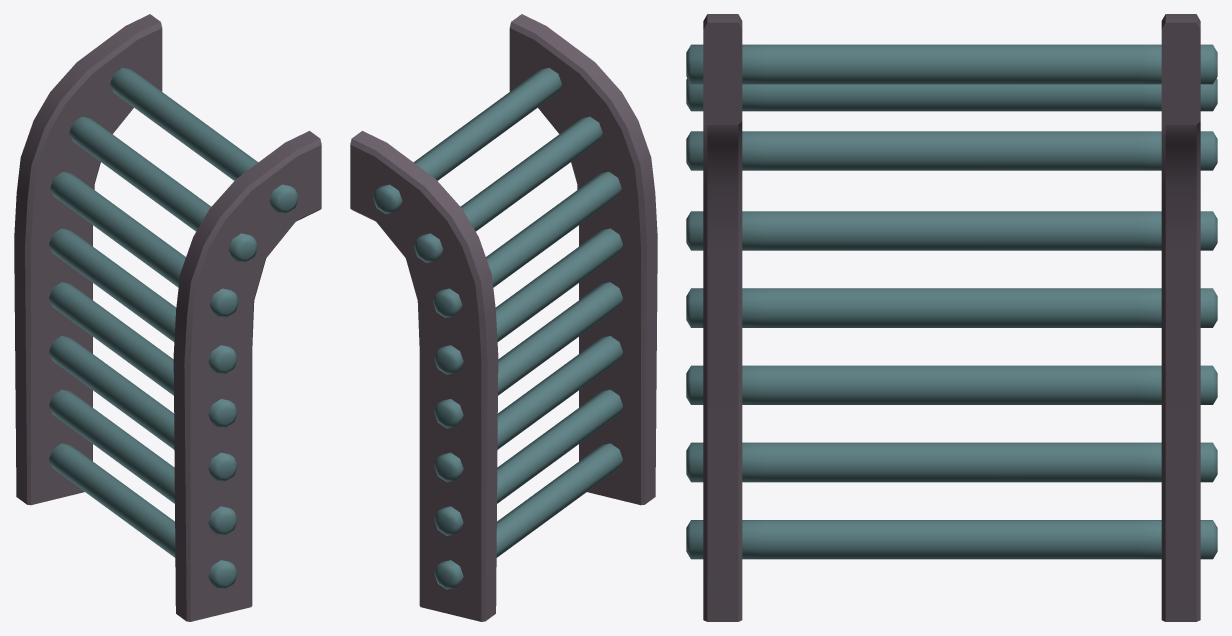
File: GB_128_129_142_143_ladder.glb
The picture shows the model from 3 angles, left to right: view 1: azimuth 30°, elevation 25°; view 2: azimuth 150°, elevation 25°; view 3: azimuth 270°, elevation 25°; orthographic projection. The views are drawn at different scales.
Visible parts, largest first — view 1: Ladder; view 2: Ladder; view 3: Ladder.
Part boxes in pixels (x1,y1,x2,y2): Ladder: (14, 14, 321, 621); Ladder: (350, 14, 657, 621); Ladder: (686, 14, 1217, 621).
Bounding box in the file's own units: 0.4723 × 1.5 × 1.11.
